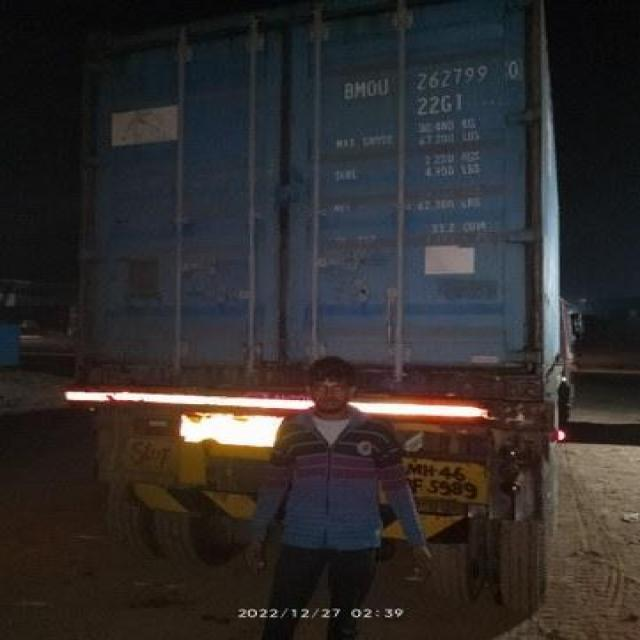container_number_h: (325, 52, 537, 125)
